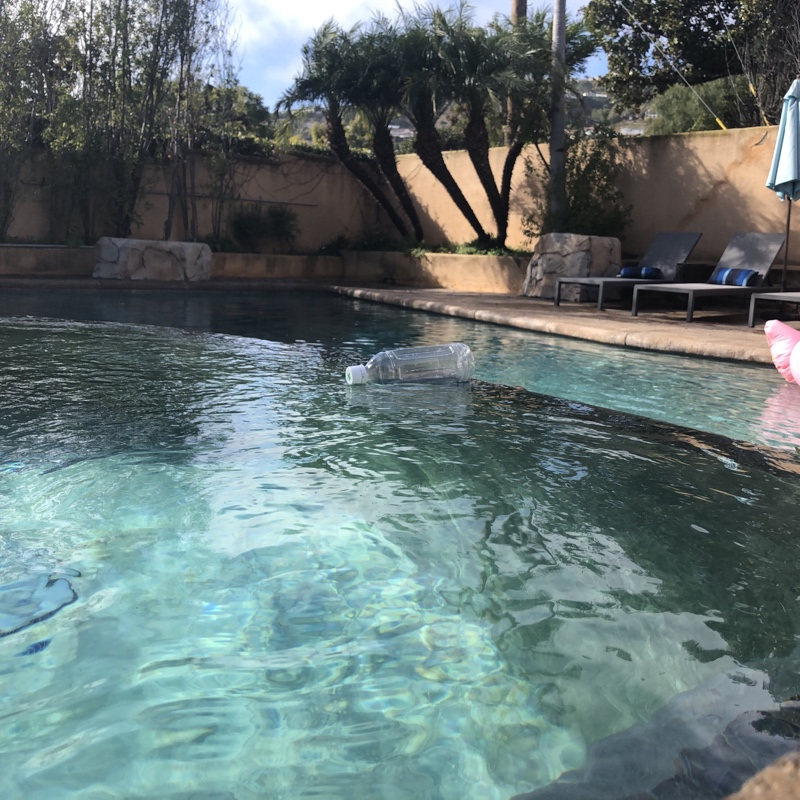Plastic Bottle: (340, 339, 480, 393)
